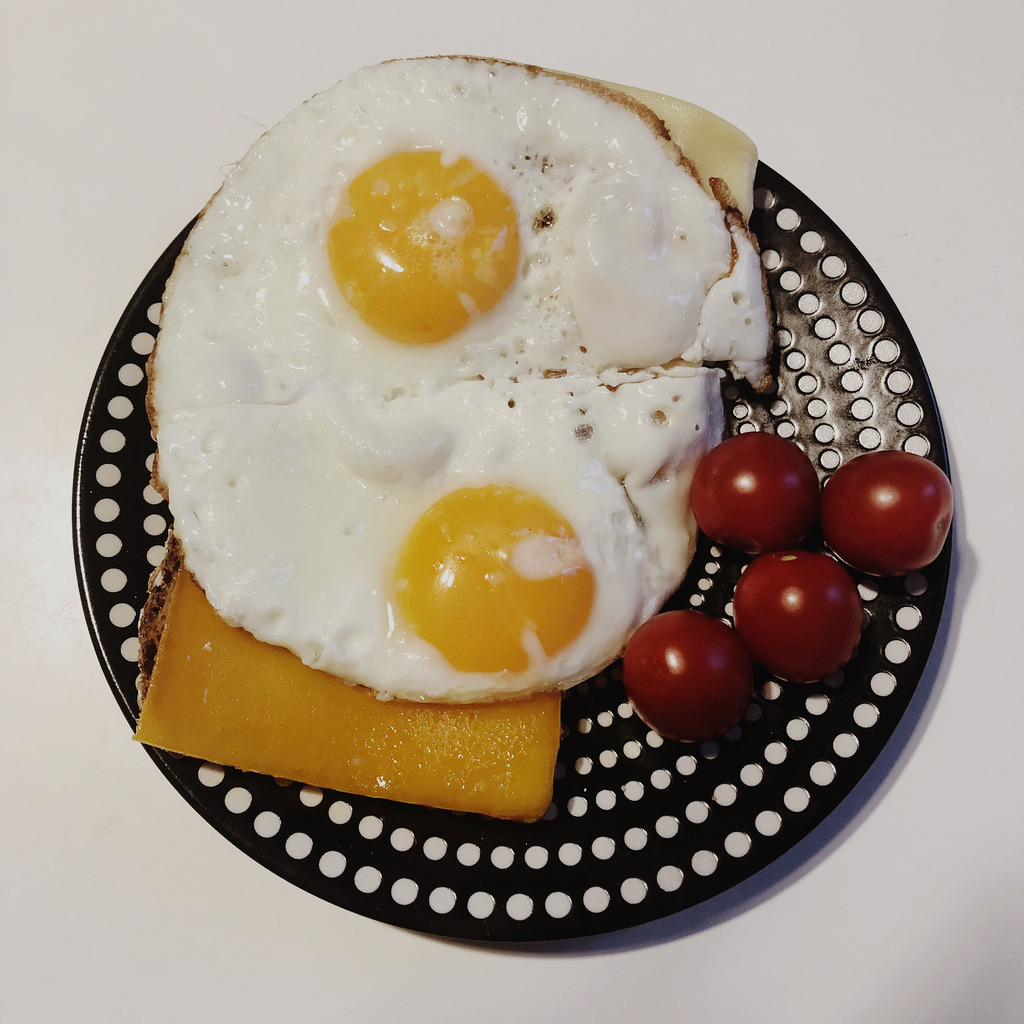fried egg: (137, 57, 782, 379), (139, 376, 721, 698)
